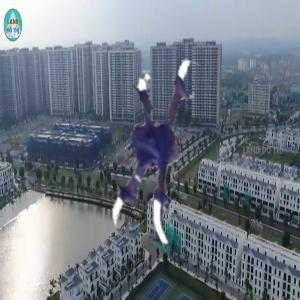drone: (81, 64, 266, 249)
